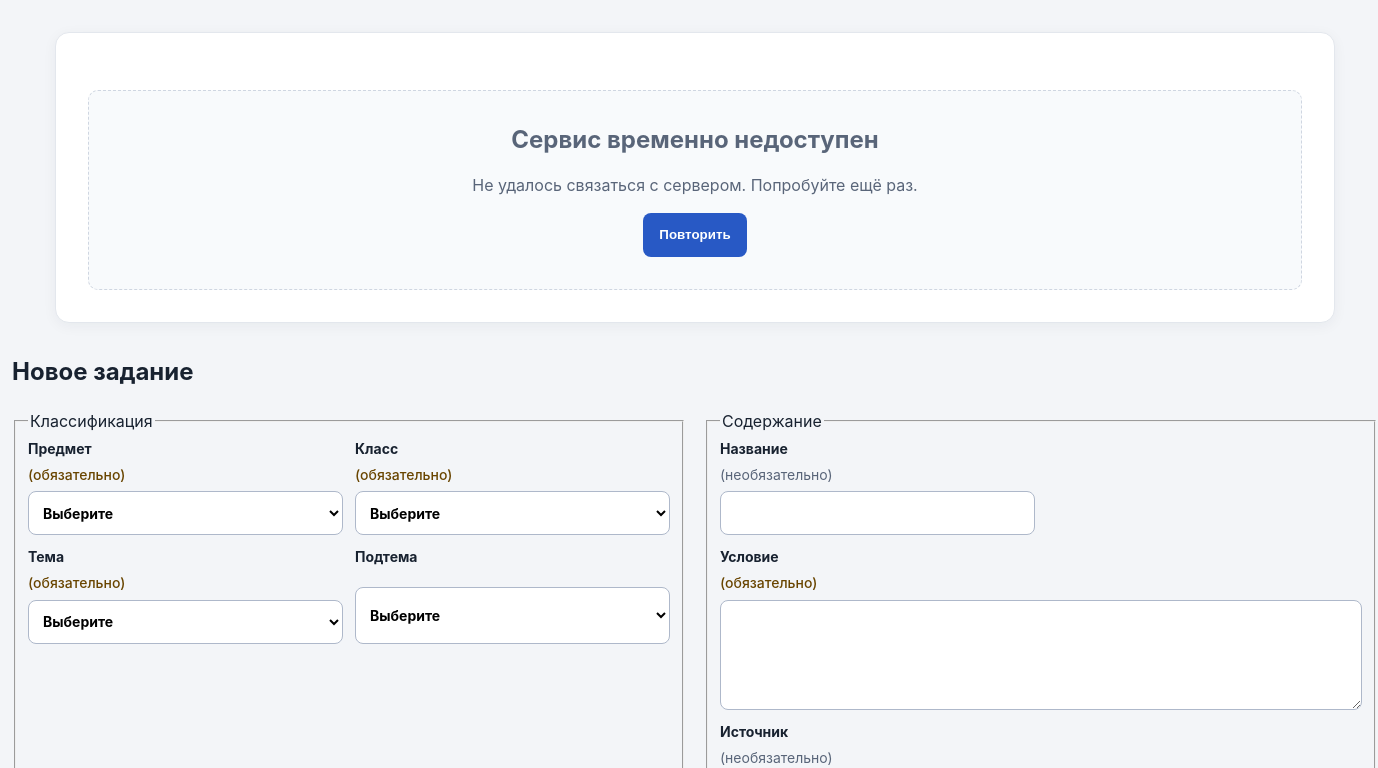
checks before create, renders candidates, and only creates after explicit override
Select "Math" in the dropdown labelled "Предмет (обязательно)" at (186, 513), box [28,491,343,535]
Select "7" in the dropdown labelled "Класс (обязательно)" at (512, 513), box [355,491,670,535]
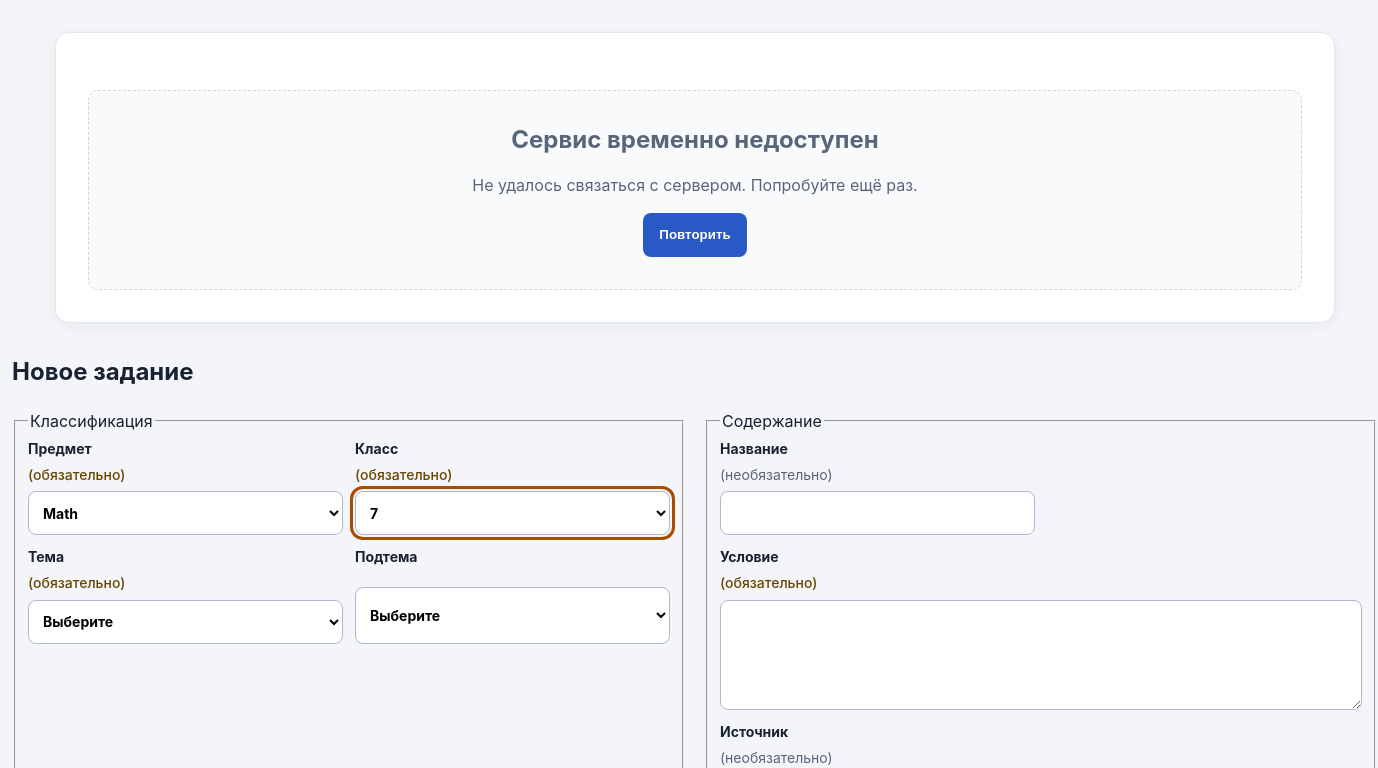
Select "Motion" in the dropdown labelled "Тема (обязательно)" at (186, 622), box [28,600,343,644]
(page scrolled)
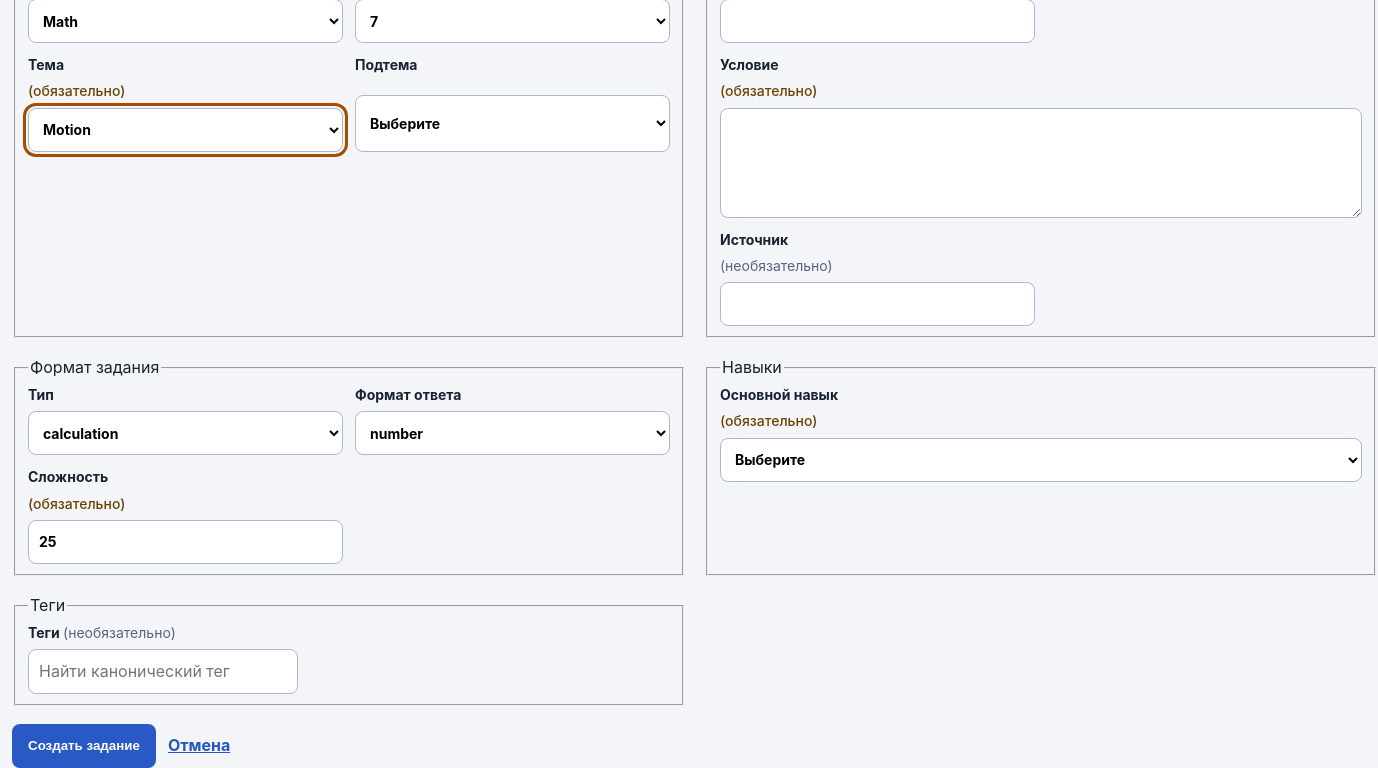
Select "Solve" in the dropdown labelled "Основной навык (обязательно)" at (1041, 460), box [720,438,1362,482]
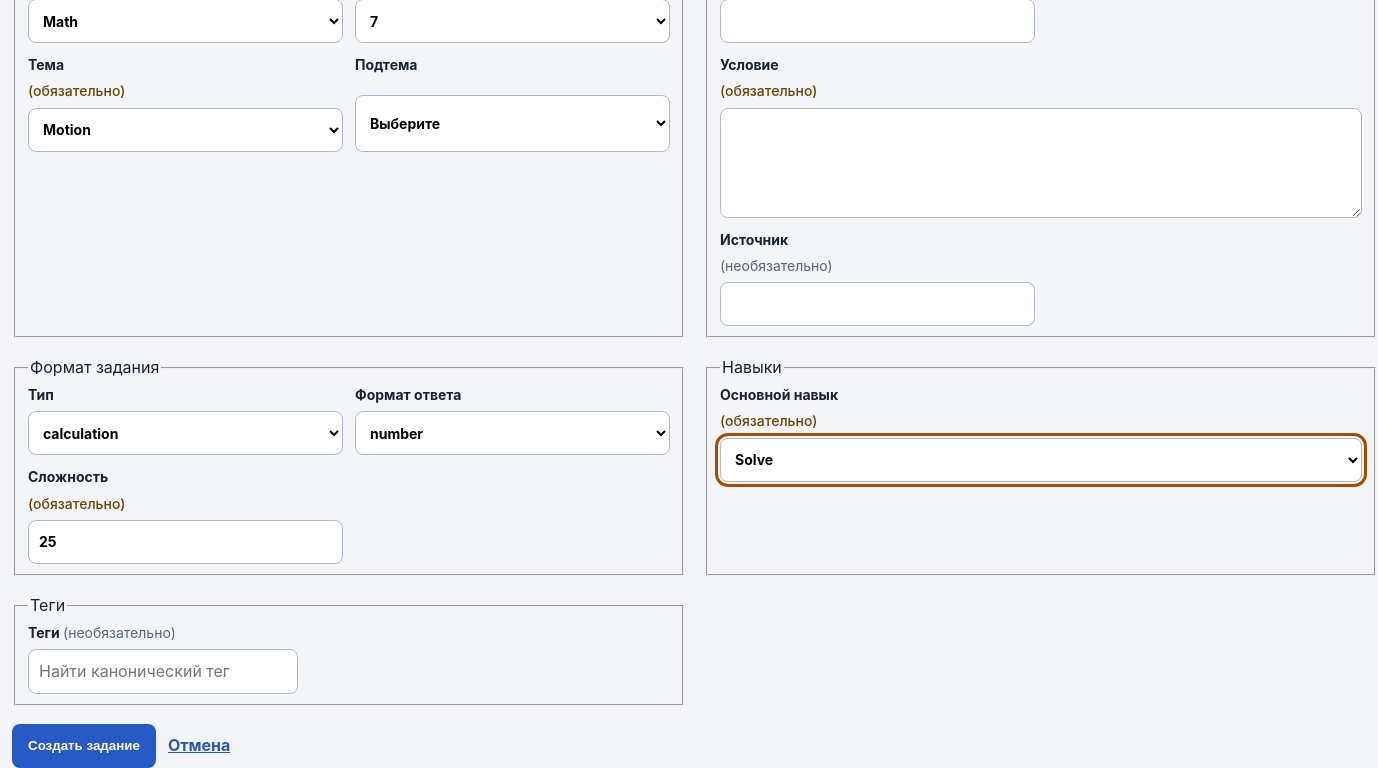
Type "Find x" into the text box labelled "Условие (обязательно)" at (1041, 163), box [720,108,1362,218]
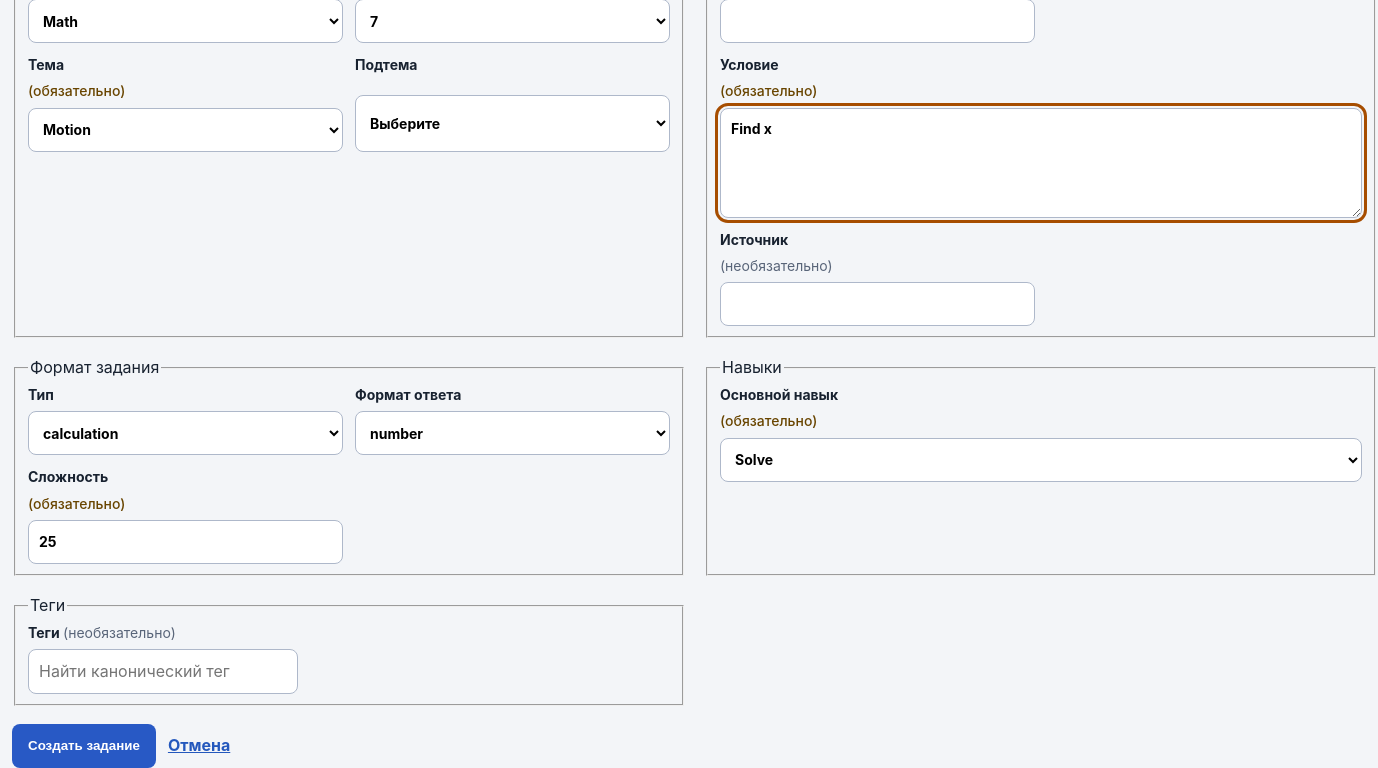
Click the button "Создать задание" at (84, 746), box [12,724,156,767]
(page scrolled)
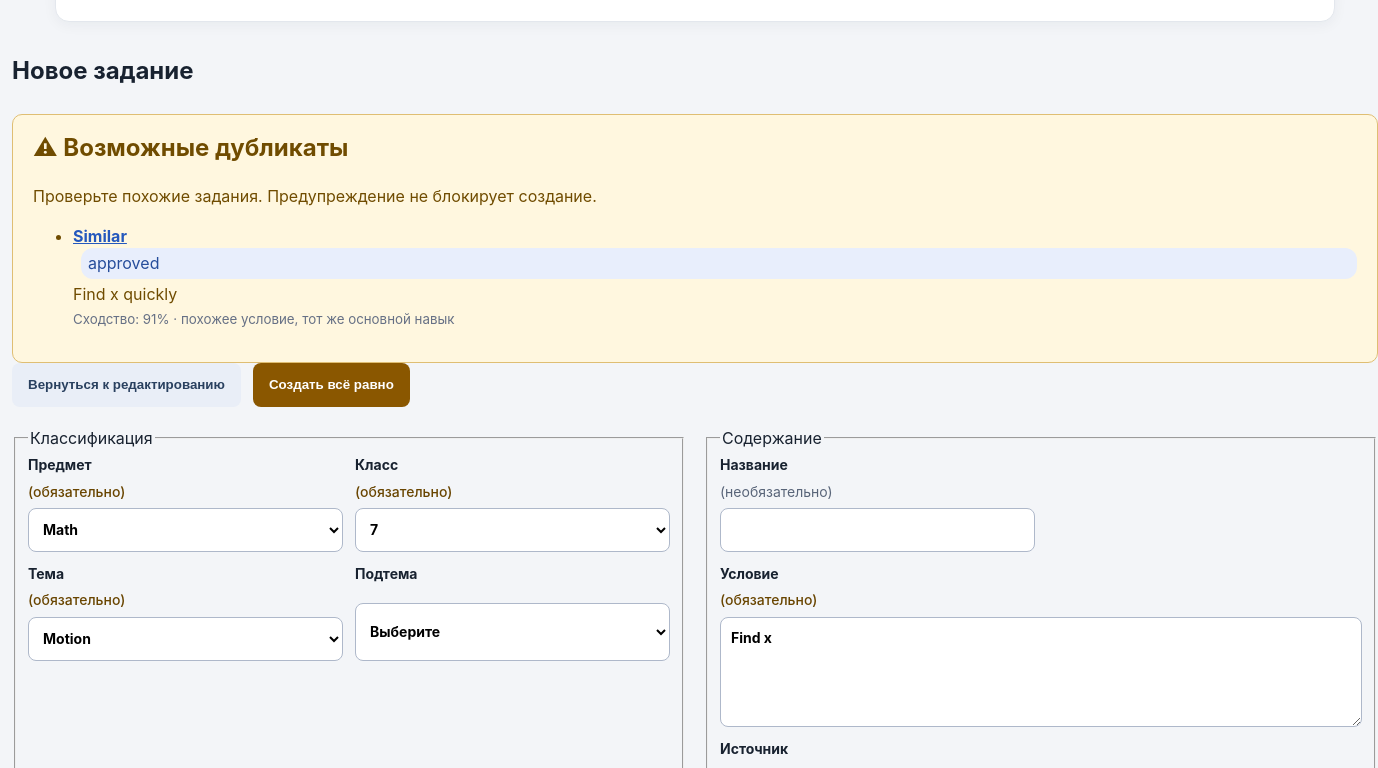
Expected: the link "Similar" is shown, [73,226,127,246]
Click the button "Создать всё равно" at (331, 384), box [253,362,410,406]
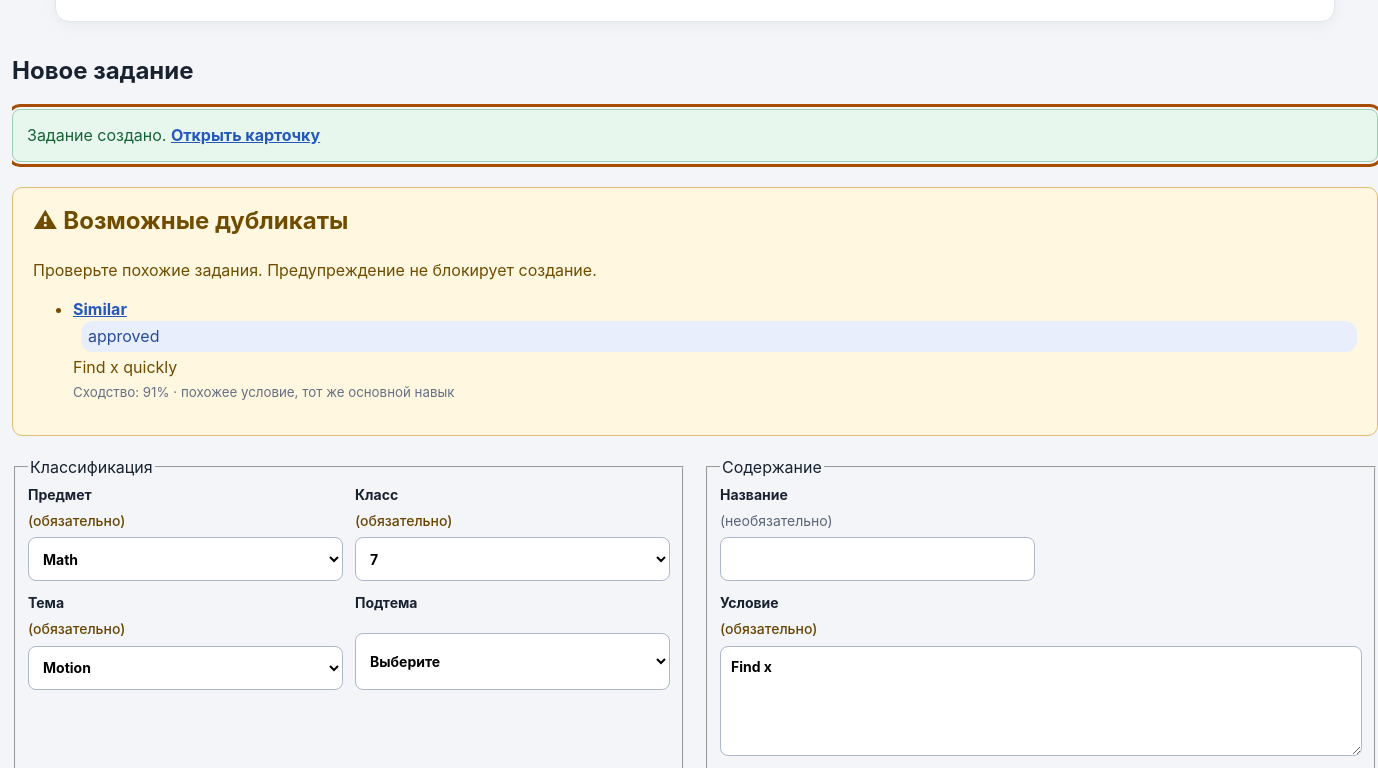
Expected: the message shows "Задание создано", [27,125,171,145]
